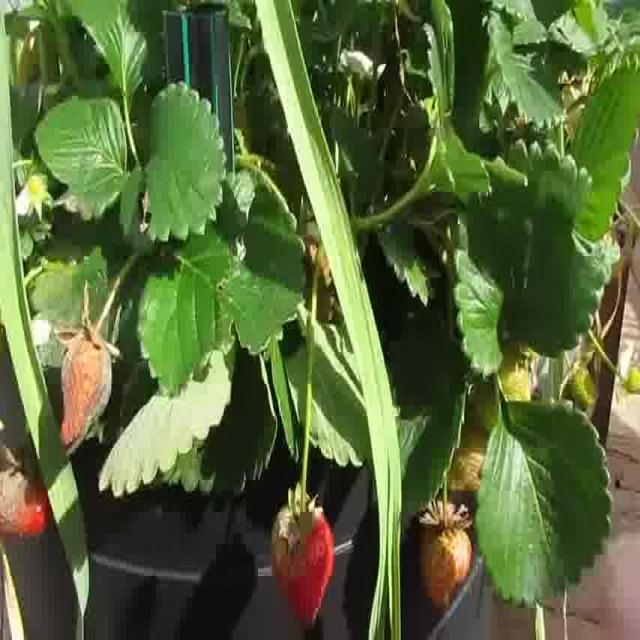Fruta sana: (472, 350, 532, 436), (420, 520, 472, 610), (442, 422, 496, 490), (568, 363, 600, 408), (508, 326, 543, 362), (621, 363, 640, 393)
Moho gris: (274, 506, 334, 630), (61, 328, 113, 448), (0, 460, 52, 536)
